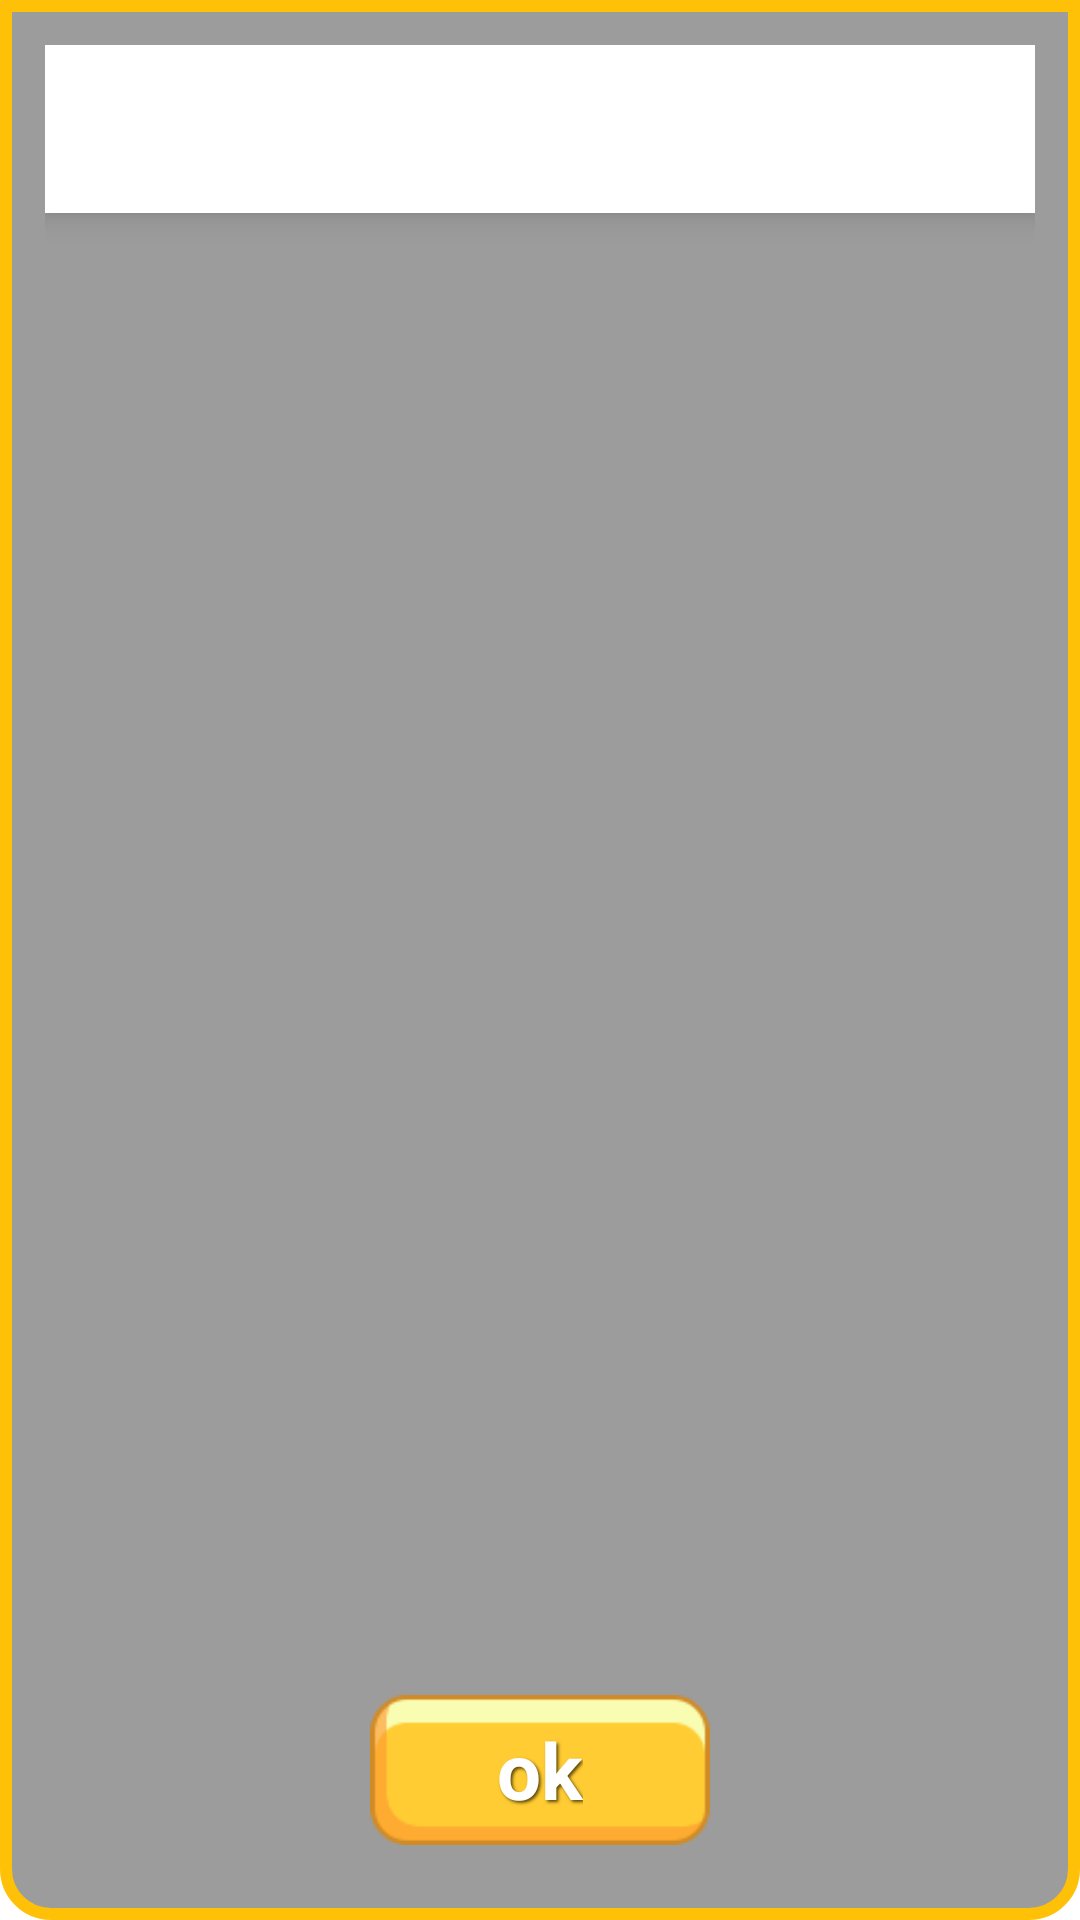

Where icons sit on this 1080px×1920px app screen, as (x1, y1, x2, y2):
bbutton: (370, 1695, 710, 1845)
